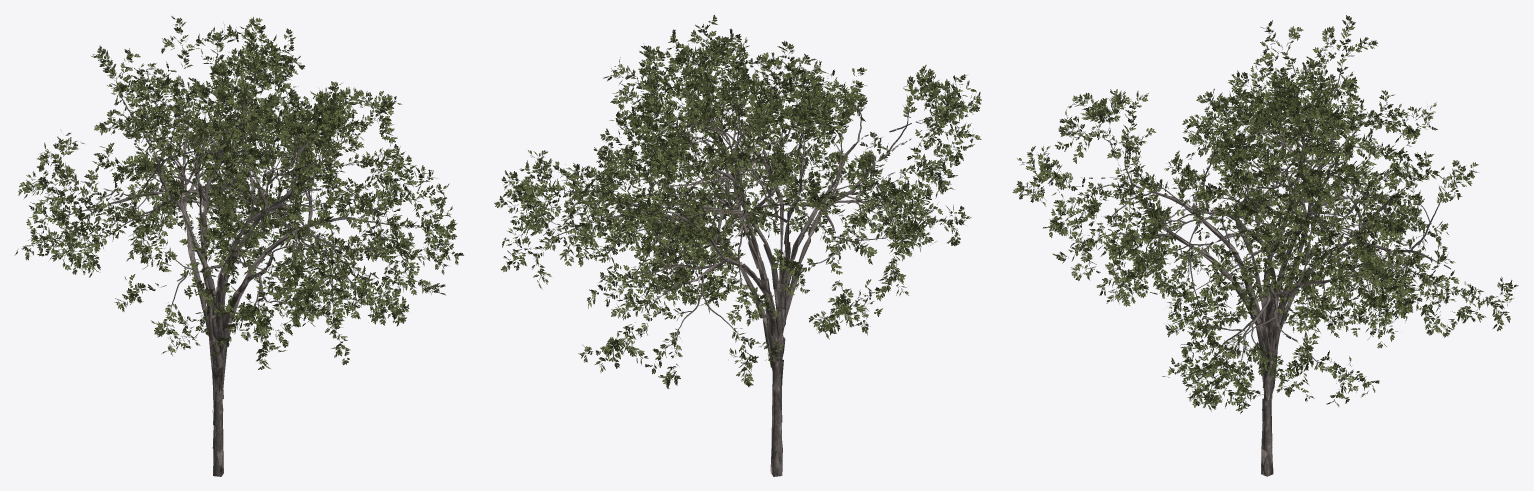
Rendered from elm-owner-lowpoly.glb.
3 views of the same model, side by side, from view 1: azimuth 30°, elevation 25°; view 2: azimuth 150°, elevation 25°; view 3: azimuth 270°, elevation 25° (orthographic). The views are drawn at different scales.
Visible parts, largest first — view 1: elm-broad-leaf, elm-wild-leaf, elm-slim-leaf, elm-broad-bark, elm-wild-bark, elm-slim-bark; view 2: elm-broad-leaf, elm-wild-leaf, elm-slim-leaf, elm-broad-bark, elm-wild-bark, elm-slim-bark; view 3: elm-wild-leaf, elm-broad-leaf, elm-slim-leaf, elm-wild-bark, elm-broad-bark, elm-slim-bark.
Boxes of the visible parts, x1,y1,x2,y2 form: elm-broad-leaf: (14, 16, 419, 355); elm-wild-leaf: (106, 29, 463, 364); elm-slim-leaf: (92, 17, 366, 369); elm-broad-bark: (68, 85, 380, 476); elm-wild-bark: (135, 77, 417, 475); elm-slim-bark: (134, 69, 312, 476); elm-broad-leaf: (571, 41, 981, 388); elm-wild-leaf: (494, 36, 848, 325); elm-slim-leaf: (609, 15, 981, 274); elm-broad-bark: (617, 91, 926, 474); elm-wild-bark: (542, 70, 822, 476); elm-slim-bark: (656, 71, 933, 451); elm-wild-leaf: (1103, 68, 1452, 413); elm-broad-leaf: (1012, 15, 1518, 353); elm-slim-leaf: (1042, 58, 1425, 303); elm-wild-bark: (1142, 109, 1406, 476); elm-broad-bark: (1081, 64, 1450, 476); elm-slim-bark: (1097, 121, 1366, 471).
Size of the model in its own units: 17.4 by 17.57 by 18.4.
Materials: 2 (2 with a texture image).
